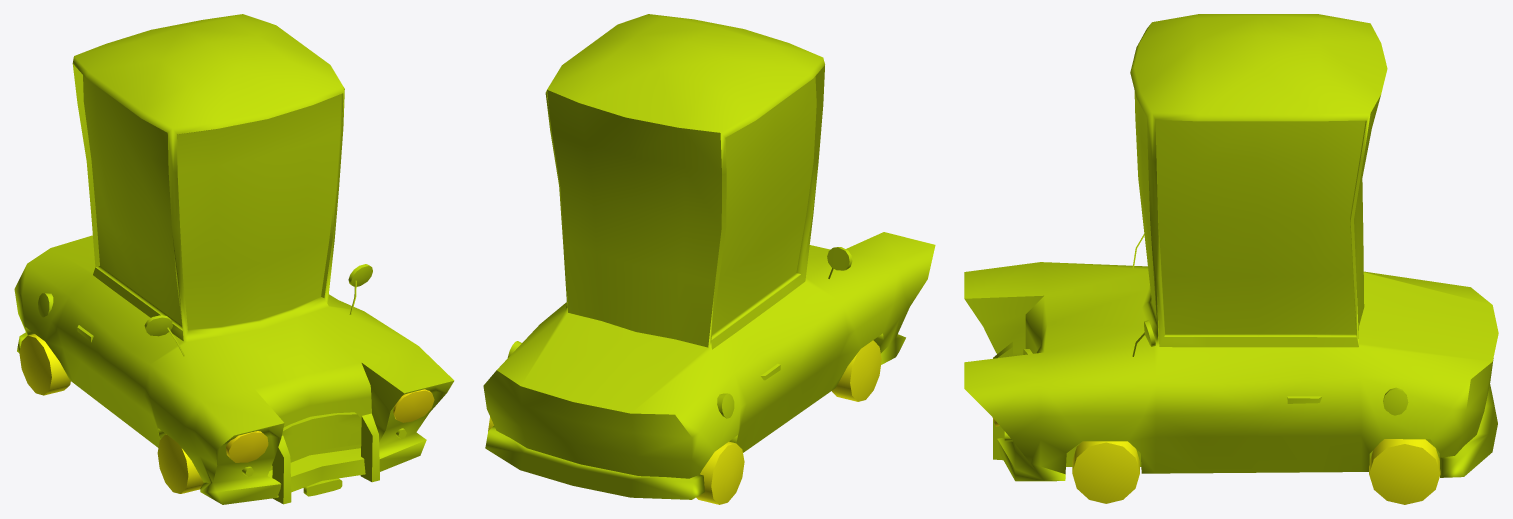
The model's file is Car02Night.glb.
3 views of the same model, side by side, from view 1: azimuth 30°, elevation 25°; view 2: azimuth 150°, elevation 25°; view 3: azimuth 270°, elevation 25° (orthographic). The views are drawn at different scales.
Visible parts, largest first — view 1: Car2Night; view 2: Car2Night; view 3: Car2Night.
Boxes of the visible parts, box(x1,y1,x2,y2) form: Car2Night: box(14, 14, 454, 504); Car2Night: box(483, 14, 935, 504); Car2Night: box(964, 14, 1498, 504).
Bounding box in the file's own units: 1.52 × 2.35 × 2.77.
1 material, 1 textured.
